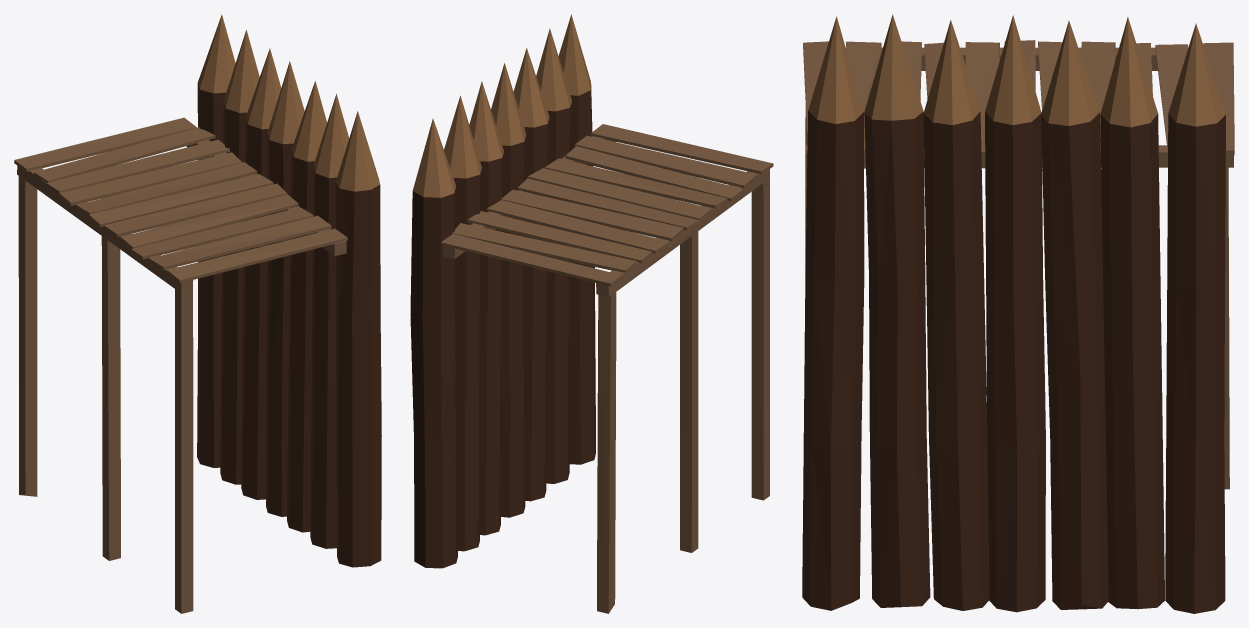
The model's file is SM_WoodenWall.fbx.
3 renders of one model, left to right at view 1: azimuth 30°, elevation 25°; view 2: azimuth 150°, elevation 25°; view 3: azimuth 270°, elevation 25°, orthographic. The views are drawn at different scales.
Visible parts, largest first — view 1: WoodenWall; view 2: WoodenWall; view 3: WoodenWall.
Part boxes in pixels (<box>): WoodenWall: <box>14,14,381,613</box>; WoodenWall: <box>410,14,773,613</box>; WoodenWall: <box>802,14,1234,613</box>.
Size of the model in its own units: 3 by 6 by 4.
